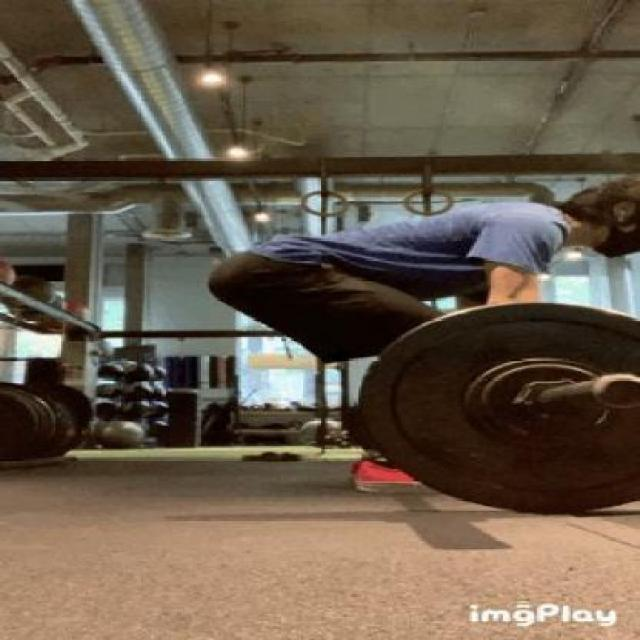Barbell: (584, 367, 638, 422)
